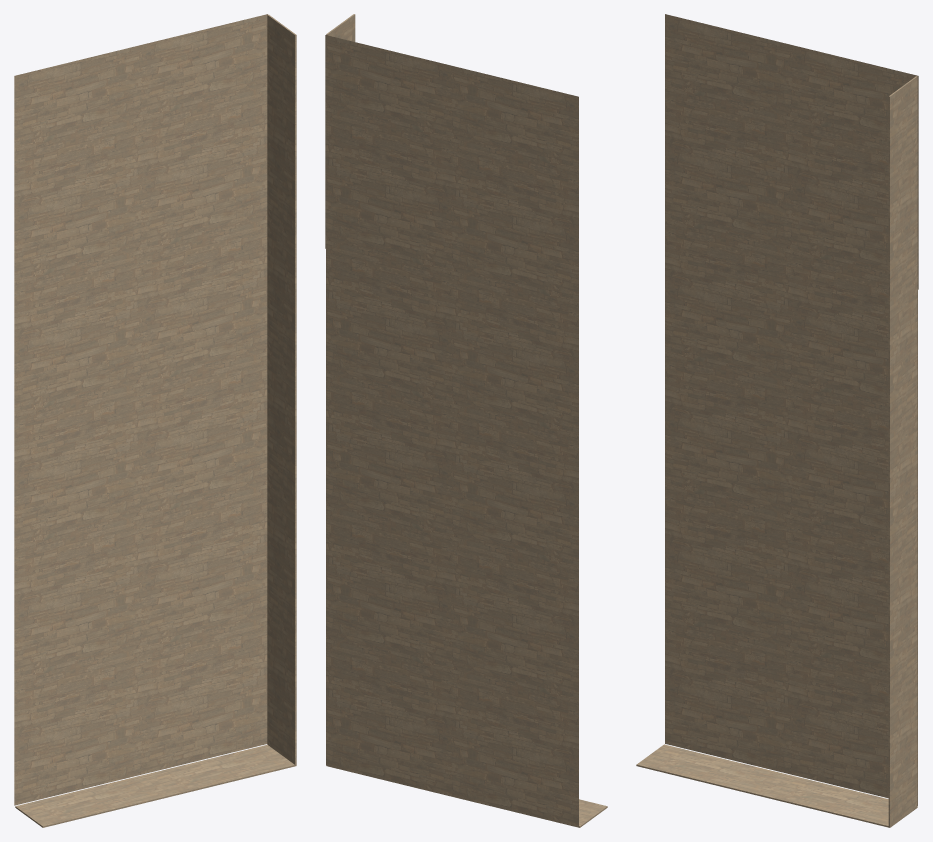
File: b-receivers-link-north-east.glb
The picture shows the model from 3 angles, left to right: view 1: azimuth 30°, elevation 25°; view 2: azimuth 150°, elevation 25°; view 3: azimuth 330°, elevation 25°; orthographic projection.
Parts seen in each view (by area): view 1: bz06_service_stone-cast; view 2: bz06_service_stone-cast; view 3: bz06_service_stone-cast.
Part boxes in pixels (left/top/right/bottom): bz06_service_stone-cast: left=14, top=14, right=296, bottom=827; bz06_service_stone-cast: left=325, top=14, right=607, bottom=827; bz06_service_stone-cast: left=636, top=14, right=918, bottom=827.
Bounding box in the file's own units: 3.6 × 9.92 × 0.7.
Materials: 1 (1 with a texture image).
